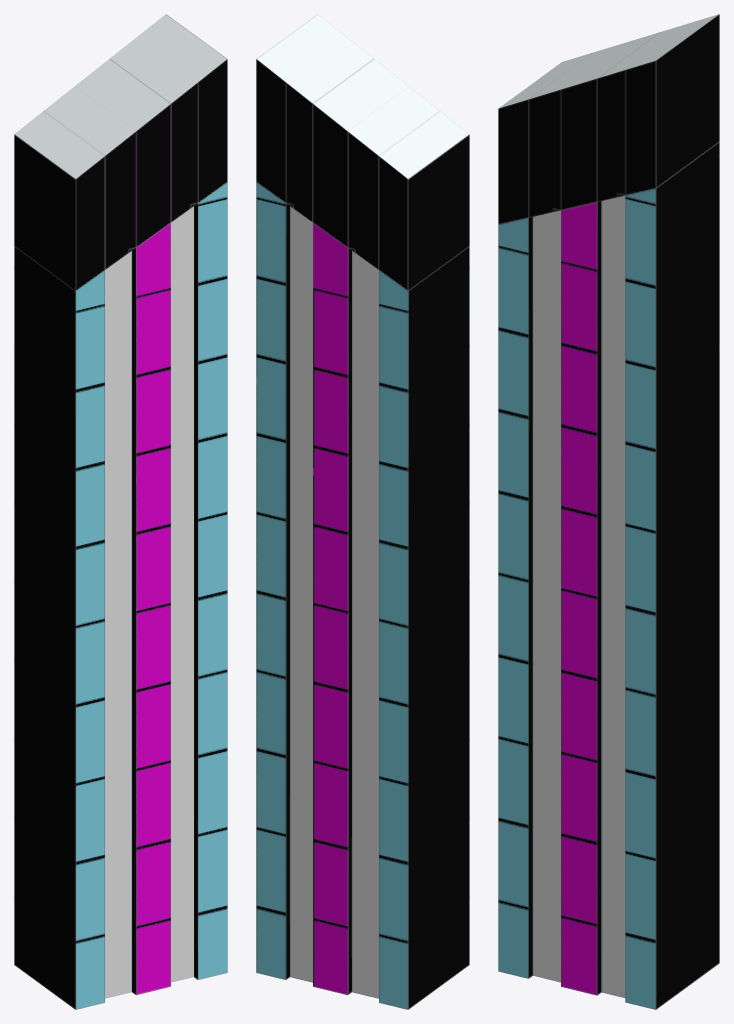
Rendered from JulieBuilding02_CarlTexture.fbx.
The picture shows the model from 3 angles, left to right: view 1: azimuth 30°, elevation 25°; view 2: azimuth 150°, elevation 25°; view 3: azimuth 330°, elevation 25°; orthographic projection. The views are drawn at different scales.
Visible parts, largest first — view 1: pCube3; view 2: pCube3; view 3: pCube3.
Boxes of the visible parts, bbox=[...] form: pCube3: bbox=[14, 14, 227, 1009]; pCube3: bbox=[256, 14, 469, 1009]; pCube3: bbox=[498, 14, 719, 1009].
Bounding box in the file's own units: 40 × 230 × 28.
Materials: 1 (1 with a texture image).
